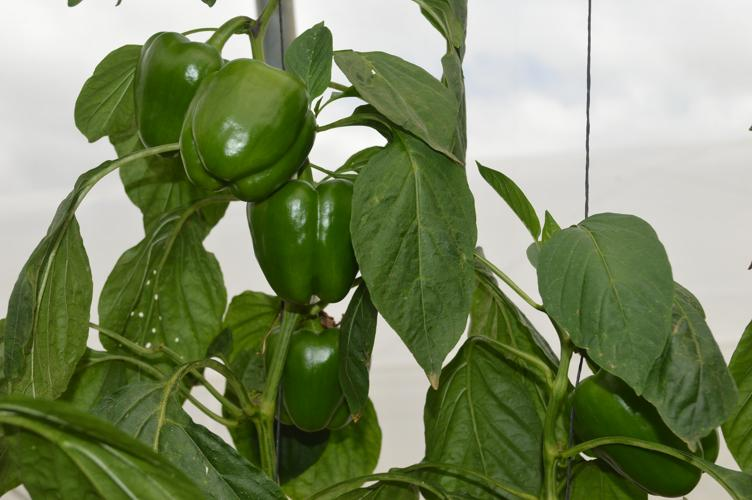BellPepper: (178, 60, 318, 204), (568, 372, 717, 497), (246, 179, 359, 309), (129, 33, 216, 160), (260, 326, 350, 433)
